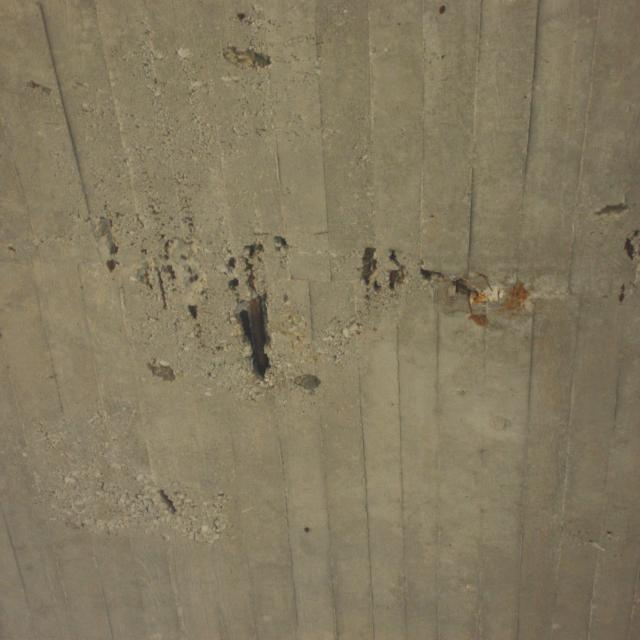corrosion: (94, 214, 295, 396), (348, 236, 547, 342)
